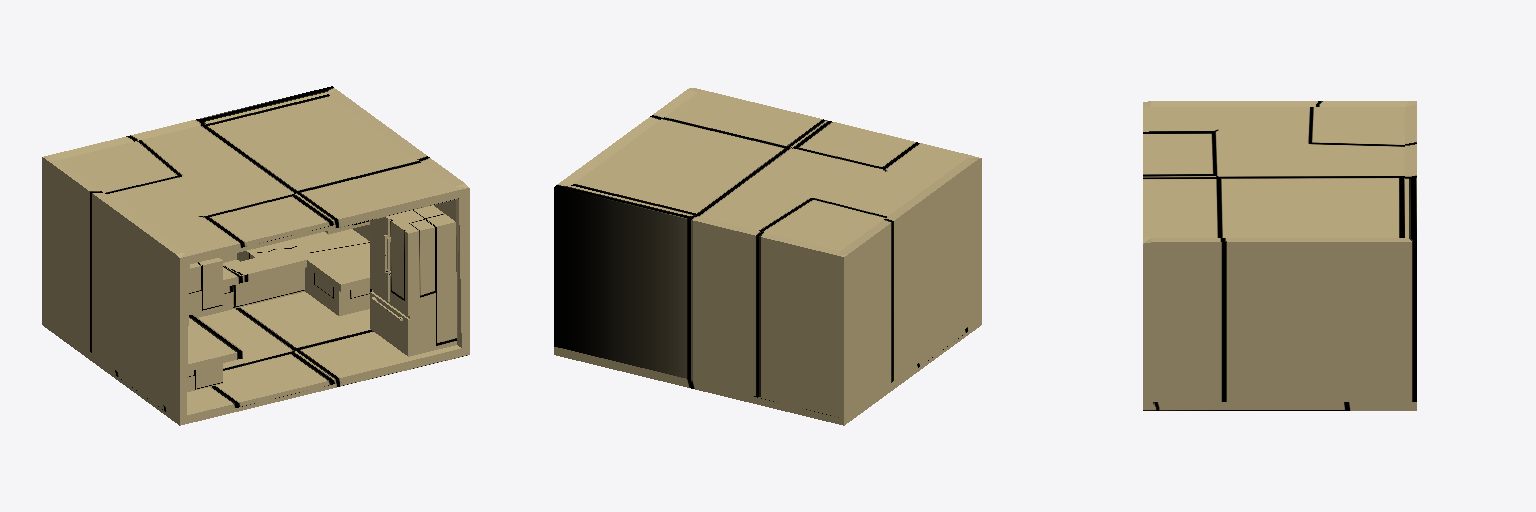
3 views of the same model, side by side, from view 1: azimuth 30°, elevation 25°; view 2: azimuth 150°, elevation 25°; view 3: azimuth 270°, elevation 25° (orthographic).
Parts seen in each view (by area): view 1: kitchen_room_box, fridge, sink, long_cabinet, left_bottom_cabinet, right_bottom_cabinet; view 2: kitchen_room_box; view 3: kitchen_room_box.
Boxes of the visible parts, x1=… form: kitchen_room_box: x1=42, y1=86, x2=469, y2=425; fridge: x1=370, y1=205, x2=456, y2=356; sink: x1=188, y1=229, x2=369, y2=371; long_cabinet: x1=189, y1=258, x2=222, y2=314; left_bottom_cabinet: x1=305, y1=267, x2=372, y2=315; right_bottom_cabinet: x1=187, y1=363, x2=222, y2=391; kitchen_room_box: x1=554, y1=88, x2=981, y2=425; kitchen_room_box: x1=1143, y1=101, x2=1416, y2=410.
Bounding box in the file's own units: 1136 × 631 × 931.
Materials: 1 (1 with a texture image).